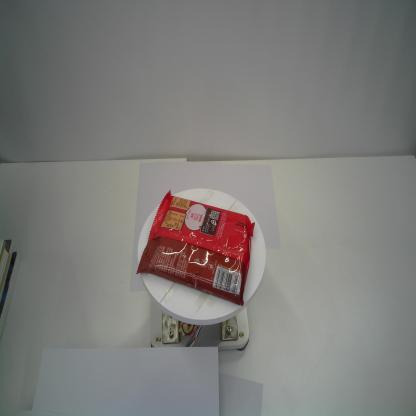Dessert: (135, 190, 256, 307)
